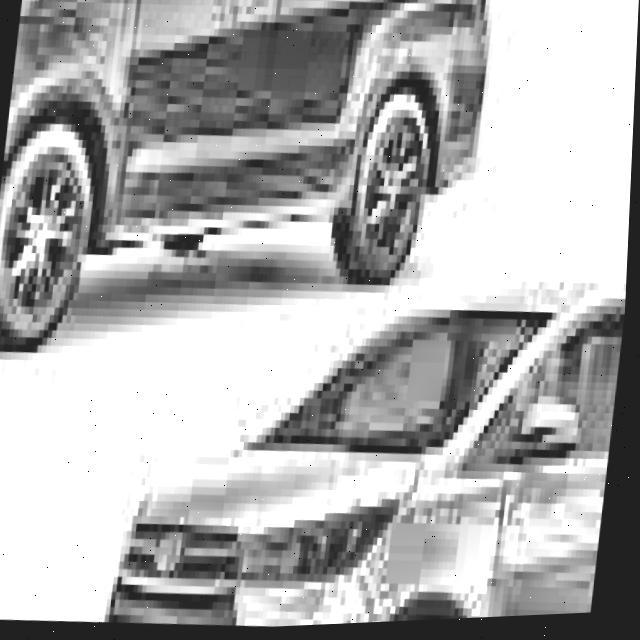light_vehicle: (105, 248, 631, 636), (0, 0, 495, 383)
